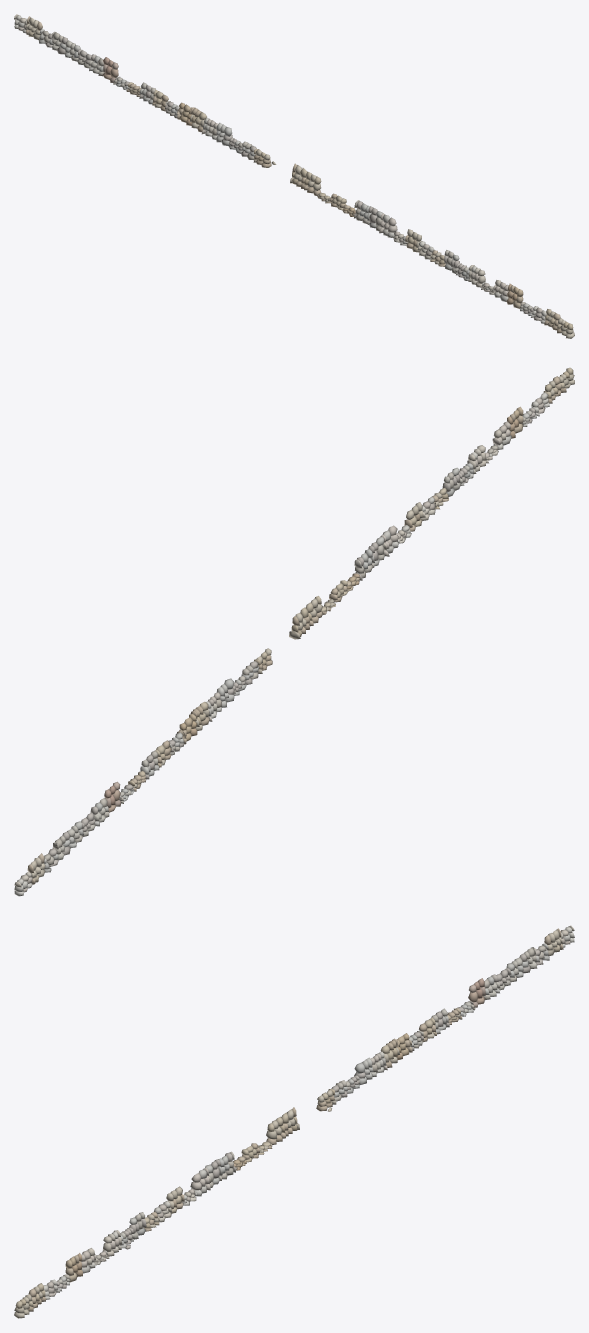
Rendered from farm_-3_9_near.glb.
3 views of the same model, one above another, from view 1: azimuth 30°, elevation 25°; view 2: azimuth 150°, elevation 25°; view 3: azimuth 330°, elevation 25° (orthographic). The views are drawn at different scales.
Parts seen in each view (by area): view 1: geometry_0; view 2: geometry_0; view 3: geometry_0.
Boxes of the visible parts, x1=… form: geometry_0: x1=14, y1=14, x2=574, y2=338; geometry_0: x1=14, y1=367, x2=574, y2=896; geometry_0: x1=14, y1=925, x2=574, y2=1318.
Size of the model in its own units: 3.49 by 5.58 by 70.27.
